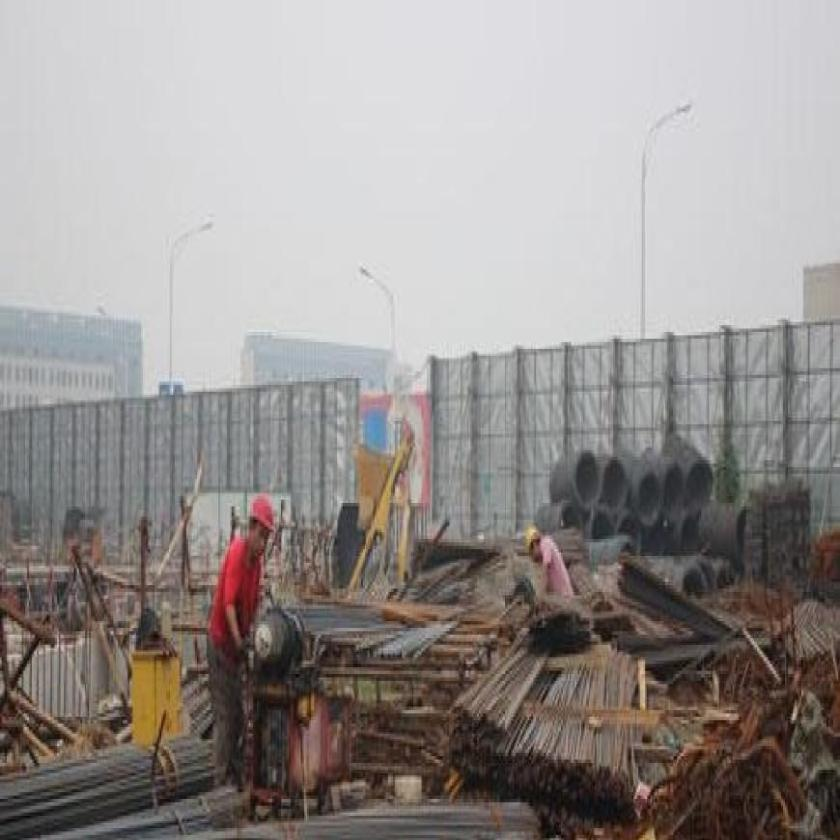Con_casco: (248, 490, 276, 565), (524, 526, 544, 560)
